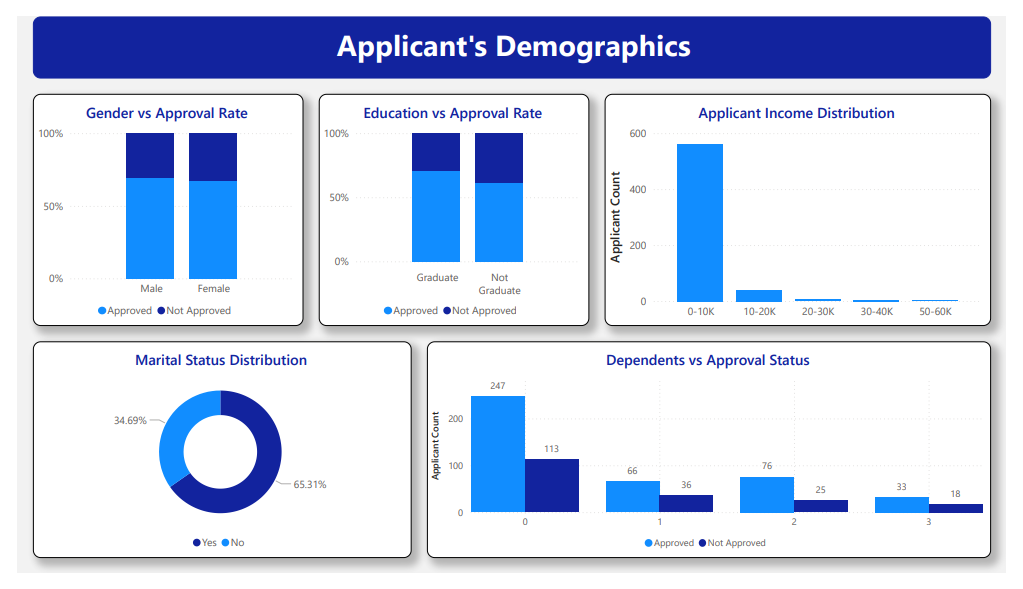

What the dashboard file says about the page in this screenshot:
{"tool":"powerbi","page":{"name":"Applicant's Demographhics","canvas":[1280,720],"ordinal":1},"visuals":[{"type":"textbox","box":[20,0,1240,80],"z":0},{"type":"hundredPercentStackedColumnChart","title":"Gender vs Approval Rate","fields":{"Category":["loan_dataset.Gender"],"Y":["CountNonNull(loan_dataset.Loan_ID)"],"Series":["loan_dataset.Loan_Status"]},"box":[20,100,350,300],"z":1},{"type":"hundredPercentStackedColumnChart","title":"Education vs Approval Rate","fields":{"Y":["CountNonNull(loan_dataset.Loan_ID)"],"Category":["loan_dataset.Education"],"Series":["loan_dataset.Loan_Status"]},"box":[390,100,350,300],"z":2},{"type":"columnChart","title":"Applicant Income Distribution","fields":{"Y":["CountNonNull(loan_dataset.Loan_ID)"],"Category":["loan_dataset.Applicant_Income_bins"]},"box":[760,100,500,300],"z":3},{"type":"donutChart","title":"Marital Status Distribution","fields":{"Category":["loan_dataset.Married"],"Y":["CountNonNull(loan_dataset.Loan_ID)"]},"box":[20,420,490,280],"z":4},{"type":"clusteredColumnChart","title":"Dependents vs Approval Status","fields":{"Category":["loan_dataset.Dependents"],"Y":["CountNonNull(loan_dataset.Loan_ID)"],"Series":["loan_dataset.Loan_Status"]},"box":[530,420,730,280],"z":5}]}

Visuals, with their boxes in screenshot pixels (x1, y1, x2, y2), scaled from the page's 1280x720 canvas onto the 1023x589 screenshot:
textbox: 16/0/1007/65
"Gender vs Approval Rate" hundredPercentStackedColumnChart: 16/82/296/327
"Education vs Approval Rate" hundredPercentStackedColumnChart: 312/82/591/327
"Applicant Income Distribution" columnChart: 607/82/1007/327
"Marital Status Distribution" donutChart: 16/344/408/573
"Dependents vs Approval Status" clusteredColumnChart: 424/344/1007/573
